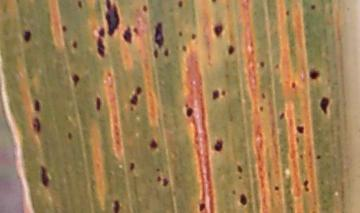tarspot: (104, 1, 120, 37), (150, 18, 166, 47), (127, 81, 144, 106), (96, 26, 107, 57), (28, 115, 43, 136), (319, 93, 332, 117), (306, 65, 323, 83), (210, 137, 226, 155), (19, 27, 34, 45), (181, 102, 196, 120), (39, 164, 50, 188), (210, 23, 227, 38), (122, 25, 133, 47), (68, 72, 84, 87), (236, 191, 251, 207), (30, 95, 43, 113), (92, 95, 105, 113), (208, 84, 221, 102), (146, 136, 161, 151), (111, 197, 125, 213), (161, 173, 173, 191), (293, 123, 308, 137), (225, 42, 238, 58), (301, 176, 311, 193), (287, 79, 300, 92), (271, 181, 283, 195), (196, 200, 209, 212), (234, 162, 246, 175), (64, 129, 75, 143), (175, 27, 187, 39), (139, 2, 150, 15), (276, 109, 287, 122), (58, 22, 71, 33), (70, 38, 79, 53), (312, 151, 324, 162), (258, 90, 269, 102), (127, 160, 137, 173), (180, 42, 190, 55), (256, 102, 266, 115), (257, 58, 266, 72), (161, 48, 172, 59), (189, 30, 198, 43), (176, 1, 187, 11), (75, 1, 87, 10), (307, 2, 319, 11), (297, 152, 307, 162), (283, 8, 292, 18), (152, 47, 159, 59), (154, 173, 162, 183), (221, 87, 228, 98), (207, 1, 223, 4)
